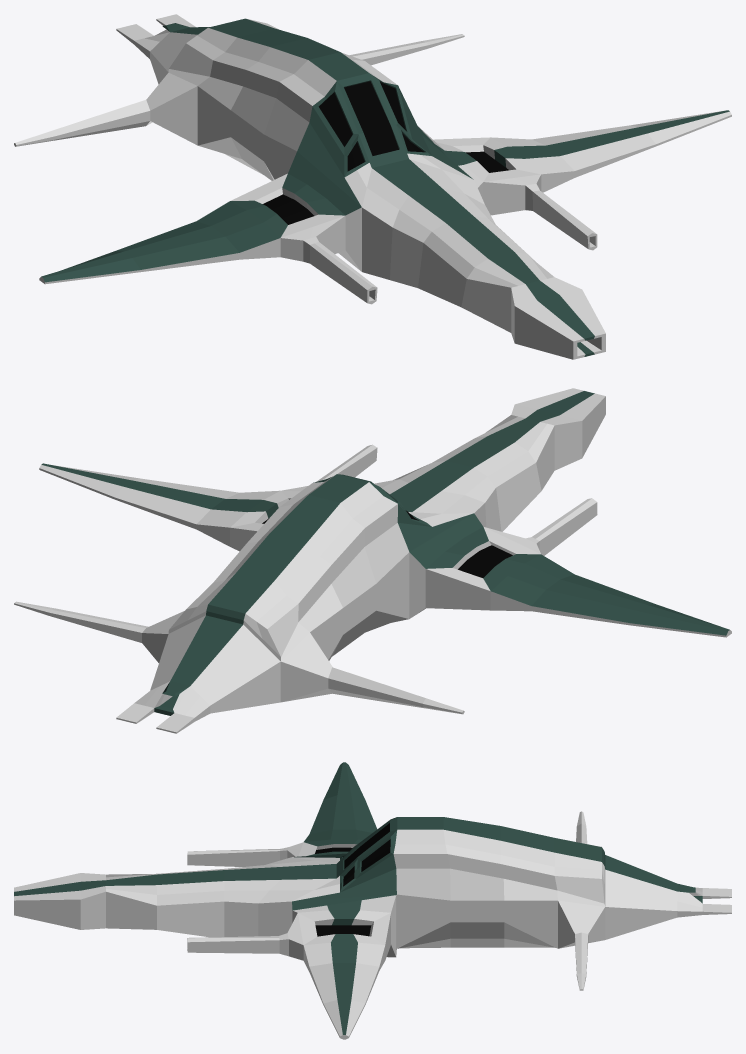
Rendered from navegrease.fbx.
The picture shows the model from 3 angles, top to bottom: view 1: azimuth 30°, elevation 25°; view 2: azimuth 150°, elevation 25°; view 3: azimuth 270°, elevation 25°; orthographic projection. The views are drawn at different scales.
Visible parts, largest first — view 1: navee; view 2: navee; view 3: navee.
Part boxes in pixels (x1,y1,x2,y2): navee: [14, 14, 731, 359]; navee: [14, 388, 731, 733]; navee: [14, 762, 731, 1039].
Size of the model in its own units: 1224 by 246 by 1368.
